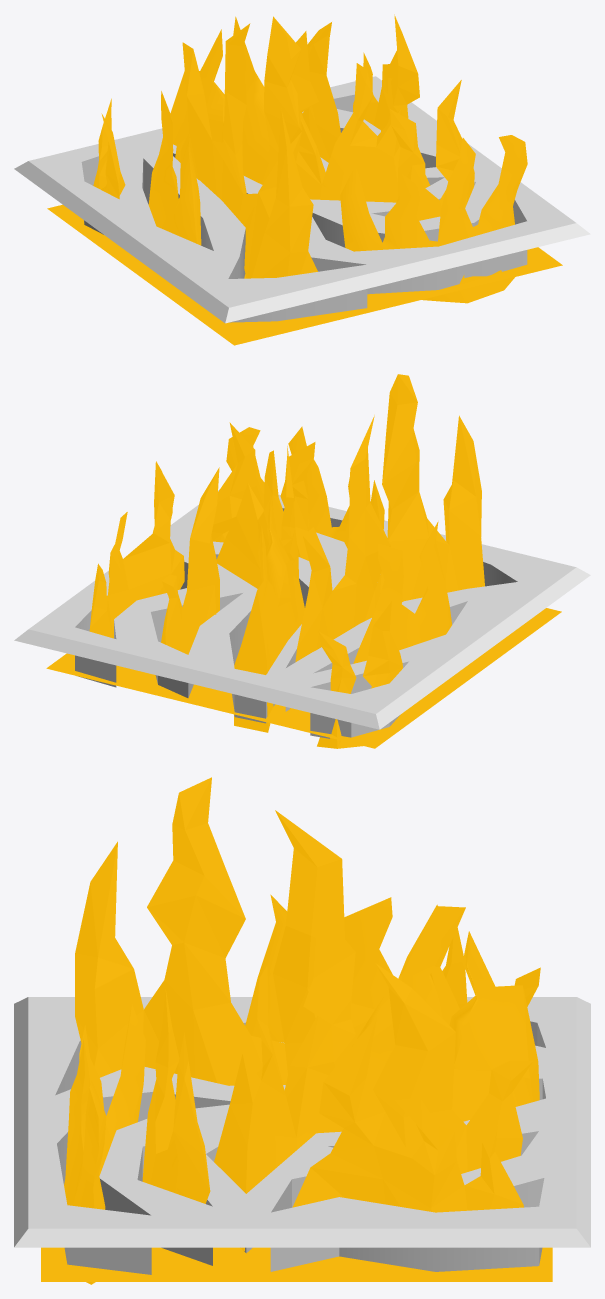
Rendered from tile_molten_zoo.fbx.
3 renders of one model, top to bottom at view 1: azimuth 30°, elevation 25°; view 2: azimuth 150°, elevation 25°; view 3: azimuth 270°, elevation 25°, orthographic. The views are drawn at different scales.
Parts seen in each view (by area): view 1: polySurface10, zoo_tile1, molten_zootonium1; view 2: polySurface10, zoo_tile1, molten_zootonium1; view 3: polySurface10, zoo_tile1, molten_zootonium1.
Part boxes in pixels (x1=…): polySurface10: x1=93, y1=14, x2=527, y2=303; zoo_tile1: x1=14, y1=76, x2=590, y2=323; molten_zootonium1: x1=47, y1=204, x2=562, y2=345; polySurface10: x1=89, y1=374, x2=484, y2=748; zoo_tile1: x1=14, y1=489, x2=590, y2=738; molten_zootonium1: x1=46, y1=608, x2=561, y2=748; polySurface10: x1=64, y1=777, x2=540, y2=1284; zoo_tile1: x1=14, y1=997, x2=590, y2=1274; molten_zootonium1: x1=41, y1=1247, x2=552, y2=1281.
Size of the model in its own units: 0.02 by 0.0146 by 0.02.
